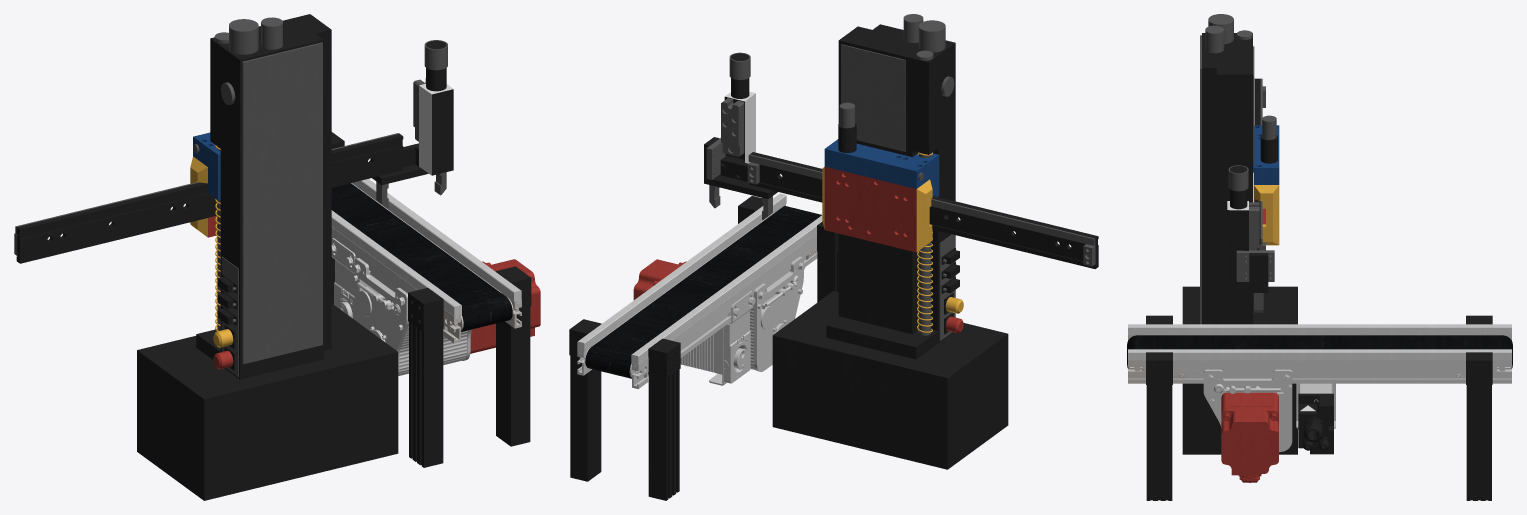
Rendered from Wing_Conveyor_2_Station.glb.
The picture shows the model from 3 angles, left to right: view 1: azimuth 30°, elevation 25°; view 2: azimuth 150°, elevation 25°; view 3: azimuth 270°, elevation 25°; orthographic projection. The views are drawn at different scales.
Visible parts, largest first — view 1: color, color[26], color[25], color-5[3], color-44[7], color-43[2], color-43[1], color-44[2], color-44[4], color-44[5], color-5[7], color-44[6] (+10 smaller); view 2: color, color[25], color-44[7], color-5[3], color-2[7], color[24], color-43[3], color-43, color-44[2], color-44[4], color-2[1], color-44[1] (+17 smaller); view 3: color[25], color-44[1], color-44[7], color, color-44[6], color-44[5], color-44[4], color-43[1], color-43, color-44[2], color-44[10], color-5[7] (+13 smaller).
Part boxes in pixels (left/top/right/bottom): color: left=137, top=303, right=398, bottom=500; color[26]: left=242, top=42, right=322, bottom=364; color[25]: left=210, top=14, right=331, bottom=365; color-5[3]: left=16, top=133, right=403, bottom=263; color-44[7]: left=331, top=183, right=512, bottom=331; color-43[2]: left=408, top=288, right=443, bottom=467; color-43[1]: left=495, top=266, right=531, bottom=446; color-44[2]: left=352, top=258, right=472, bottom=375; color-44[4]: left=352, top=179, right=521, bottom=303; color-44[5]: left=331, top=210, right=461, bottom=318; color-5[7]: left=432, top=89, right=453, bottom=175; color-44[6]: left=470, top=259, right=540, bottom=353; color: left=772, top=291, right=1008, bottom=469; color[25]: left=838, top=24, right=955, bottom=334; color-44[7]: left=585, top=206, right=821, bottom=378; color-5[3]: left=749, top=152, right=1098, bottom=269; color-2[7]: left=824, top=167, right=916, bottom=252; color[24]: left=841, top=44, right=905, bottom=151; color-43[3]: left=648, top=338, right=680, bottom=500; color-43: left=569, top=319, right=601, bottom=481; color-44[2]: left=750, top=256, right=805, bottom=371; color-44[4]: left=577, top=193, right=786, bottom=352; color-2[1]: left=824, top=139, right=929, bottom=188; color-44[1]: left=605, top=218, right=817, bottom=357; color[25]: left=1202, top=33, right=1252, bottom=324; color-44[1]: left=1173, top=360, right=1465, bottom=383; color-44[7]: left=1127, top=335, right=1512, bottom=368; color: left=1182, top=286, right=1297, bottom=454; color-44[6]: left=1221, top=392, right=1278, bottom=482; color-44[5]: left=1128, top=324, right=1511, bottom=335; color-44[4]: left=1128, top=349, right=1511, bottom=360; color-43[1]: left=1146, top=352, right=1172, bottom=500; color-43: left=1466, top=352, right=1492, bottom=500; color-44[2]: left=1203, top=369, right=1292, bottom=452; color-44[10]: left=1298, top=393, right=1333, bottom=454; color-5[7]: left=1227, top=210, right=1248, bottom=279.
Size of the model in its own units: 0.7759 by 0.6555 by 0.603.
9 materials, 8 textured.
